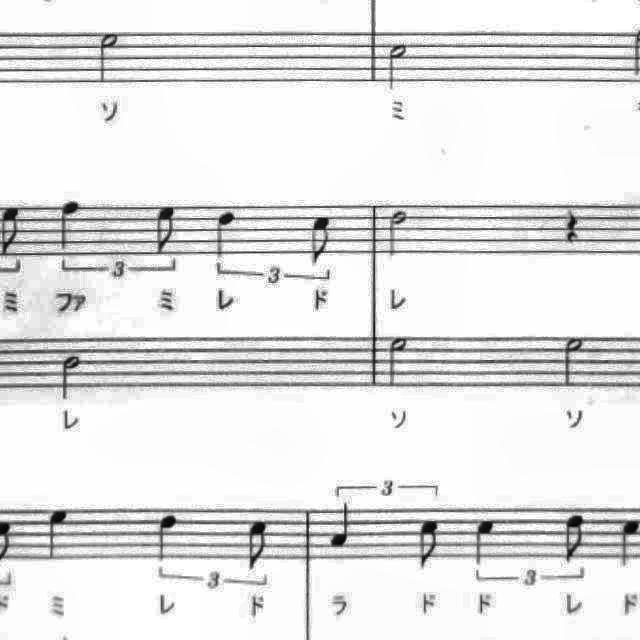Eighth-note: (556, 506, 592, 570), (410, 512, 446, 576), (240, 513, 276, 575), (304, 210, 341, 270), (151, 201, 185, 259)
Half-note: (92, 26, 128, 90), (555, 328, 591, 392), (380, 331, 416, 394), (380, 36, 416, 96), (56, 350, 88, 406), (382, 206, 412, 262)
Quarter-note: (41, 502, 77, 566), (150, 508, 186, 568), (206, 206, 242, 264), (469, 510, 503, 570), (53, 194, 87, 254), (324, 498, 360, 554)
Quarter-rest: (556, 200, 588, 248)
